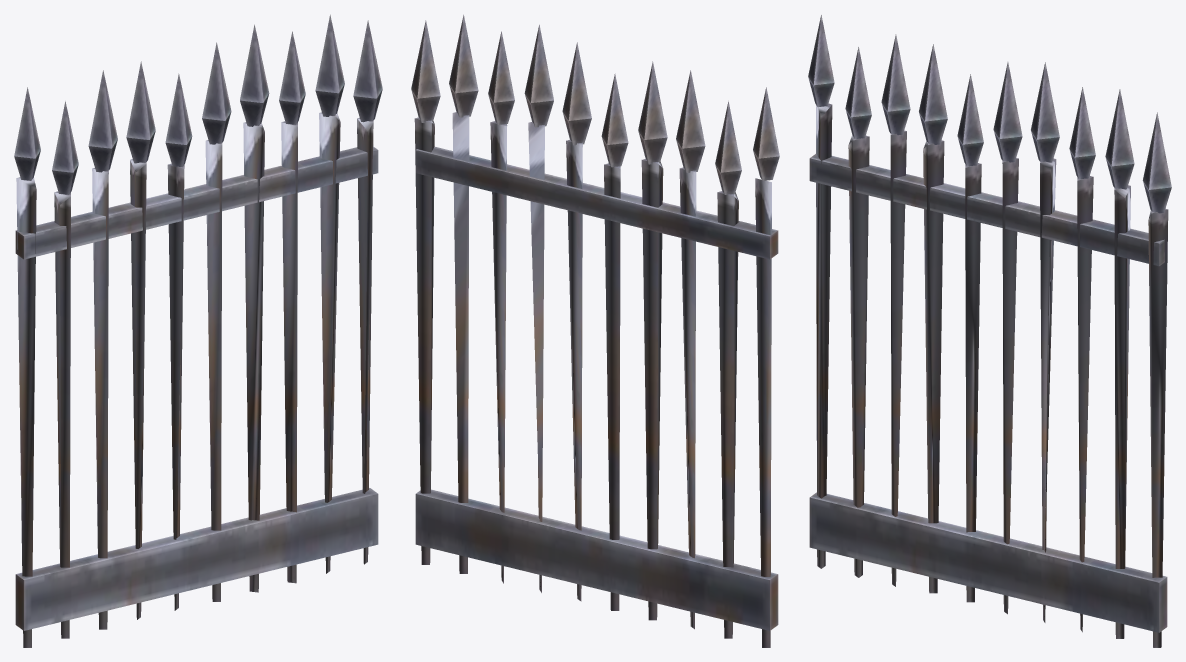
File: Prop_MetalFence_Simple.low.gltf
3 views of the same model, side by side, from view 1: azimuth 30°, elevation 25°; view 2: azimuth 150°, elevation 25°; view 3: azimuth 330°, elevation 25° (orthographic).
Visible parts, largest first — view 1: Prop_MetalFence_Simple; view 2: Prop_MetalFence_Simple; view 3: Prop_MetalFence_Simple.
Boxes of the visible parts, x1,y1,x2,y2 form: Prop_MetalFence_Simple: (14, 14, 382, 647); Prop_MetalFence_Simple: (411, 14, 779, 647); Prop_MetalFence_Simple: (808, 15, 1171, 647).
Size of the model in its own units: 1.95 by 2.87 by 0.1562.
Materials: 1 (1 with a texture image).
